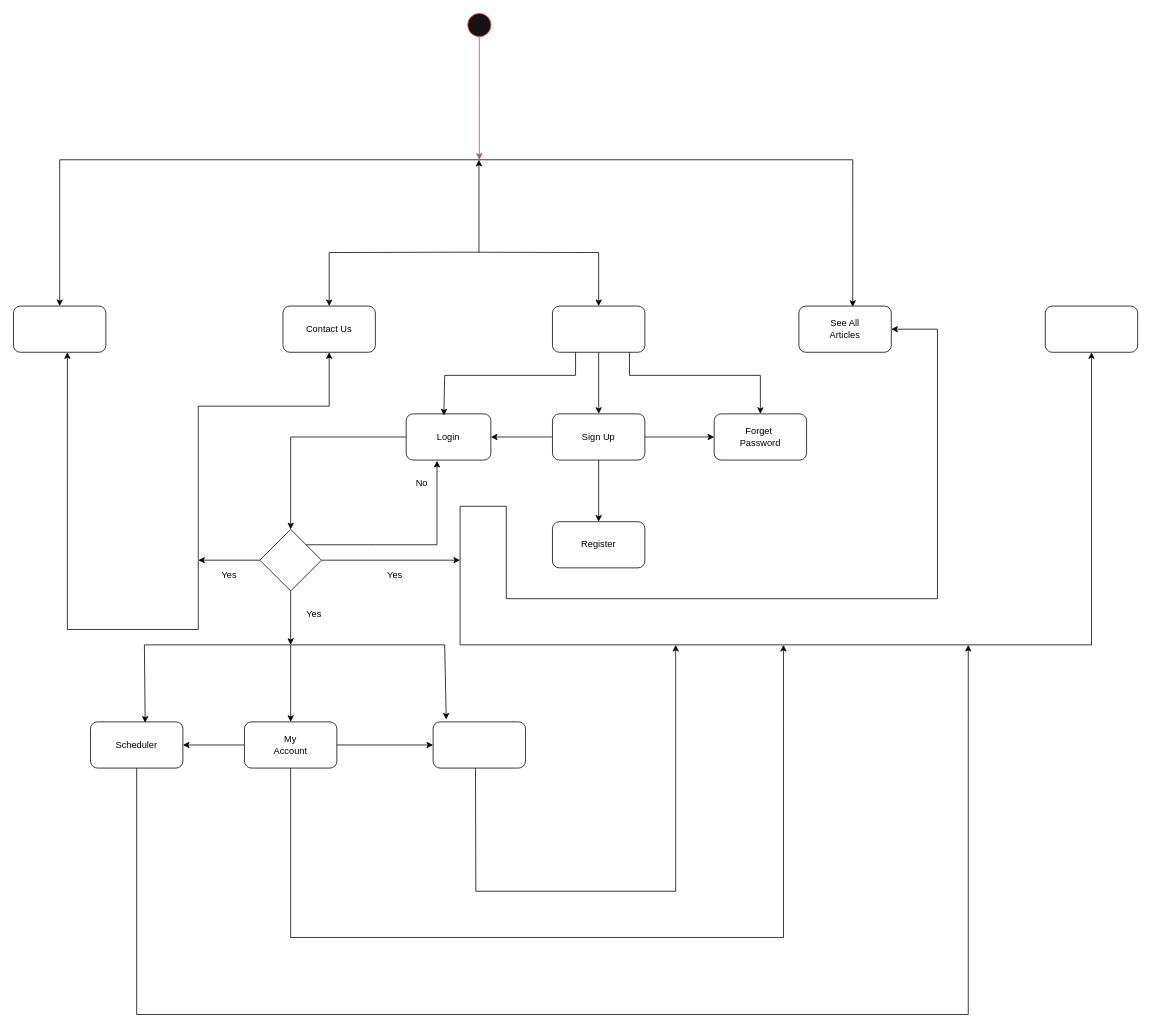
Some shapes in this 1151 by 1029 pixel diagram are drawn without their labels. Each missing label, with the centre of its shape:
"Doctors" goes at (59,328).
"Sign In/ Sign UP" goes at (598,328).
"Sign Out" goes at (1091,328).
"Virtual Assistant" goes at (479,744).
